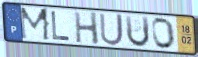H: (73, 11, 101, 46)
L: (49, 10, 72, 42)
M: (19, 6, 52, 42)
O: (151, 17, 177, 51)
U: (123, 14, 151, 49), (98, 12, 125, 47)
